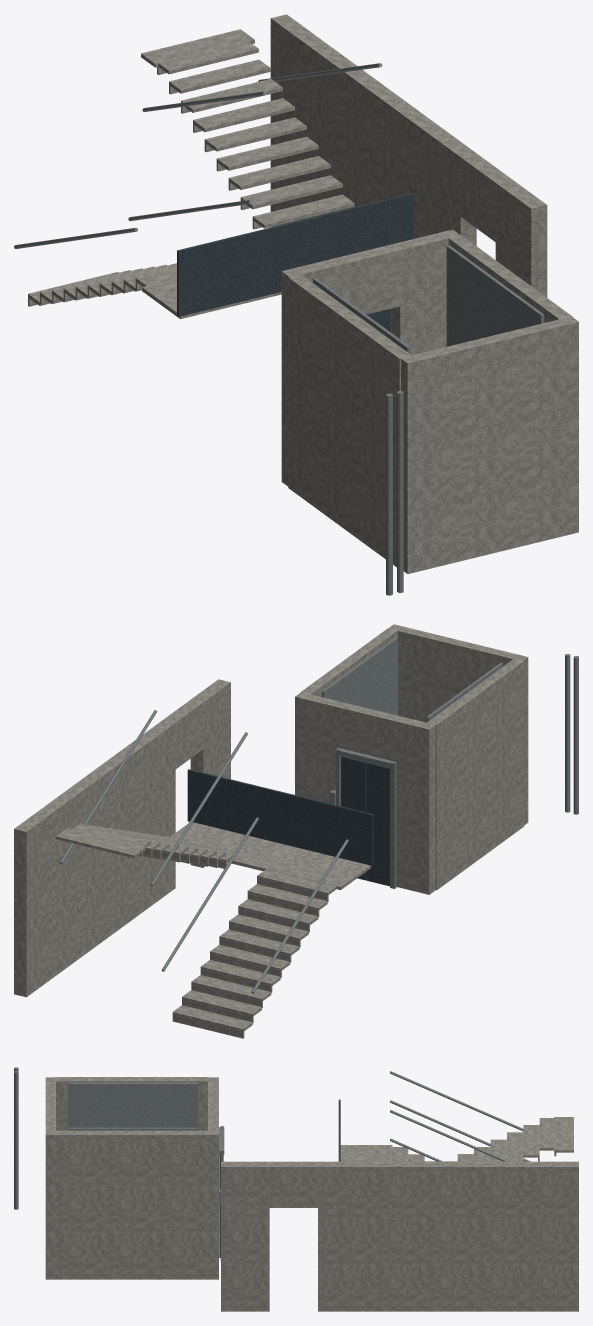
Rendered from PZ_Midrise_UStair_ElevatorCore.glb.
3 renders of one model, top to bottom at view 1: azimuth 30°, elevation 25°; view 2: azimuth 150°, elevation 25°; view 3: azimuth 270°, elevation 25°, orthographic. The views are drawn at different scales.
Visible parts, largest first — view 1: Core_LiftBackShaftWall, Core_LiftLeftShaftWall, Core_FireRatedCorePartition, Core_LandingInnerGuardRail, Core_Flight_2_TreadPlates, Core_LiftFrontWall_TrueDoorOpening, Core_CoreToHallFireDoorAperture, Core_LiftRails, Core_Flight_1_TreadPlates, Core_LiftRightShaftWall, Core_UpperLandingIntoNextStorey, Core_CoreVentPipe_0 (+2 smaller); view 2: Core_FireRatedCorePartition, Core_LiftLeftShaftWall, Core_LiftFrontWall_TrueDoorOpening, Core_LandingInnerGuardRail, Core_Flight_1_TreadPlates, Core_LiftBackShaftWall, Core_CoreToHallFireDoorAperture, Core_HalfLevelTurningLanding, Core_Flight_1_RiserPlates, Core_LiftRails, Core_LiftDoor_0_SlidingLeaf, Core_Flight_2_TreadPlates (+11 smaller); view 3: Core_FireRatedCorePartition, Core_LiftRightShaftWall, Core_CoreToHallFireDoorAperture, Core_LiftRails, Core_Flight_2_TreadPlates, Core_LiftFrontWall_TrueDoorOpening, Core_LiftBackShaftWall, Core_LiftLeftShaftWall, Core_HalfLevelTurningLanding, Core_UpperLandingIntoNextStorey, Core_CoreVentPipe_1, Core_Handrail_02 (+3 smaller).
Boxes of the visible parts, left/top/right/bottom form: Core_LiftBackShaftWall: left=400, top=316, right=578, bottom=573; Core_LiftLeftShaftWall: left=288, top=274, right=411, bottom=567; Core_FireRatedCorePartition: left=270, top=14, right=454, bottom=238; Core_LandingInnerGuardRail: left=177, top=193, right=413, bottom=316; Core_Flight_2_TreadPlates: left=157, top=40, right=354, bottom=228; Core_LiftFrontWall_TrueDoorOpening: left=281, top=229, right=460, bottom=486; Core_CoreToHallFireDoorAperture: left=438, top=137, right=547, bottom=297; Core_LiftRails: left=313, top=245, right=544, bottom=353; Core_Flight_1_TreadPlates: left=28, top=263, right=176, bottom=305; Core_LiftRightShaftWall: left=448, top=235, right=572, bottom=322; Core_UpperLandingIntoNextStorey: left=141, top=29, right=254, bottom=67; Core_CoreVentPipe_0: left=386, top=393, right=392, bottom=595; Core_FireRatedCorePartition: left=14, top=732, right=158, bottom=997; Core_LiftLeftShaftWall: left=427, top=659, right=524, bottom=890; Core_LiftFrontWall_TrueDoorOpening: left=295, top=692, right=435, bottom=894; Core_LandingInnerGuardRail: left=187, top=769, right=373, bottom=866; Core_Flight_1_TreadPlates: left=172, top=869, right=336, bottom=1031; Core_LiftBackShaftWall: left=388, top=624, right=528, bottom=824; Core_CoreToHallFireDoorAperture: left=146, top=679, right=230, bottom=900; Core_HalfLevelTurningLanding: left=170, top=822, right=370, bottom=889; Core_Flight_1_RiserPlates: left=172, top=878, right=328, bottom=1038; Core_LiftRails: left=321, top=637, right=502, bottom=722; Core_LiftDoor_0_SlidingLeaf: left=366, top=762, right=389, bottom=886; Core_Flight_2_TreadPlates: left=71, top=823, right=233, bottom=862; Core_FireRatedCorePartition: left=348, top=1161, right=578, bottom=1311; Core_LiftRightShaftWall: left=55, top=1130, right=207, bottom=1279; Core_CoreToHallFireDoorAperture: left=221, top=1161, right=348, bottom=1311; Core_LiftRails: left=68, top=1082, right=197, bottom=1130; Core_Flight_2_TreadPlates: left=441, top=1118, right=556, bottom=1161; Core_LiftFrontWall_TrueDoorOpening: left=208, top=1077, right=218, bottom=1279; Core_LiftBackShaftWall: left=45, top=1077, right=55, bottom=1279; Core_LiftLeftShaftWall: left=55, top=1077, right=207, bottom=1130; Core_HalfLevelTurningLanding: left=340, top=1145, right=392, bottom=1161; Core_UpperLandingIntoNextStorey: left=554, top=1117, right=573, bottom=1152; Core_CoreVentPipe_1: left=14, top=1071, right=18, bottom=1209; Core_Handrail_02: left=390, top=1071, right=523, bottom=1131.
Size of the model in its own units: 4.84 by 4.1 by 11.15.
3 materials, 3 textured.
